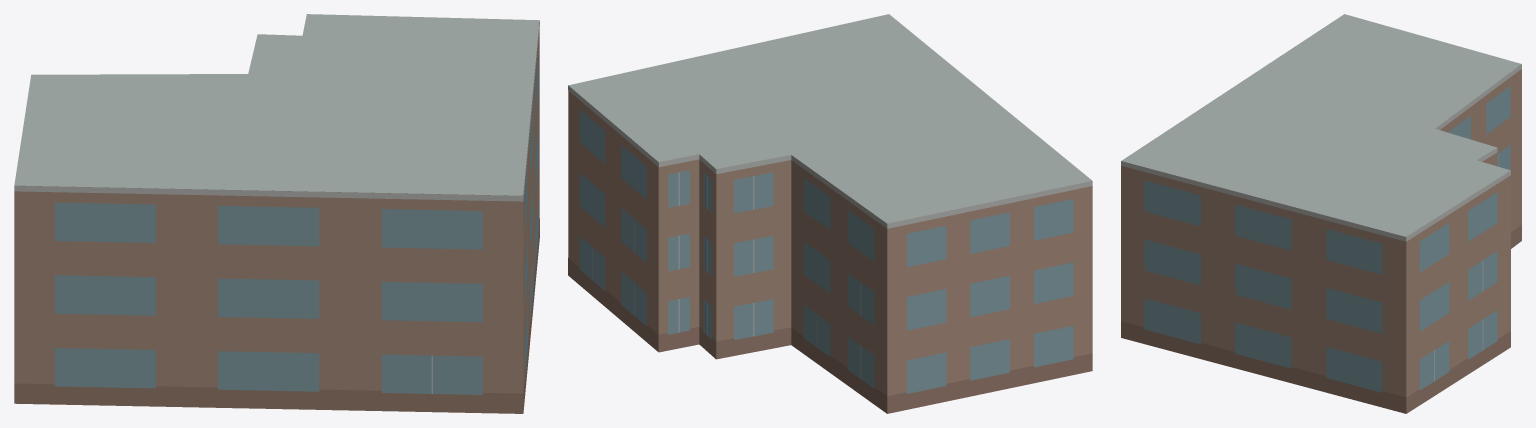
File: survey-upis-32894834.glb
The picture shows the model from 3 angles, left to right: view 1: azimuth 30°, elevation 25°; view 2: azimuth 150°, elevation 25°; view 3: azimuth 270°, elevation 25°; orthographic projection. The views are drawn at different scales.
Visible parts, largest first — view 1: survey-upis-32894834.tmp; view 2: survey-upis-32894834.tmp; view 3: survey-upis-32894834.tmp.
Boxes of the visible parts, x1,y1,x2,y2 form: survey-upis-32894834.tmp: [14, 14, 539, 413]; survey-upis-32894834.tmp: [568, 14, 1092, 413]; survey-upis-32894834.tmp: [1121, 14, 1521, 413].
Bounding box in the file's own units: 24.75 × 9.15 × 18.8.
